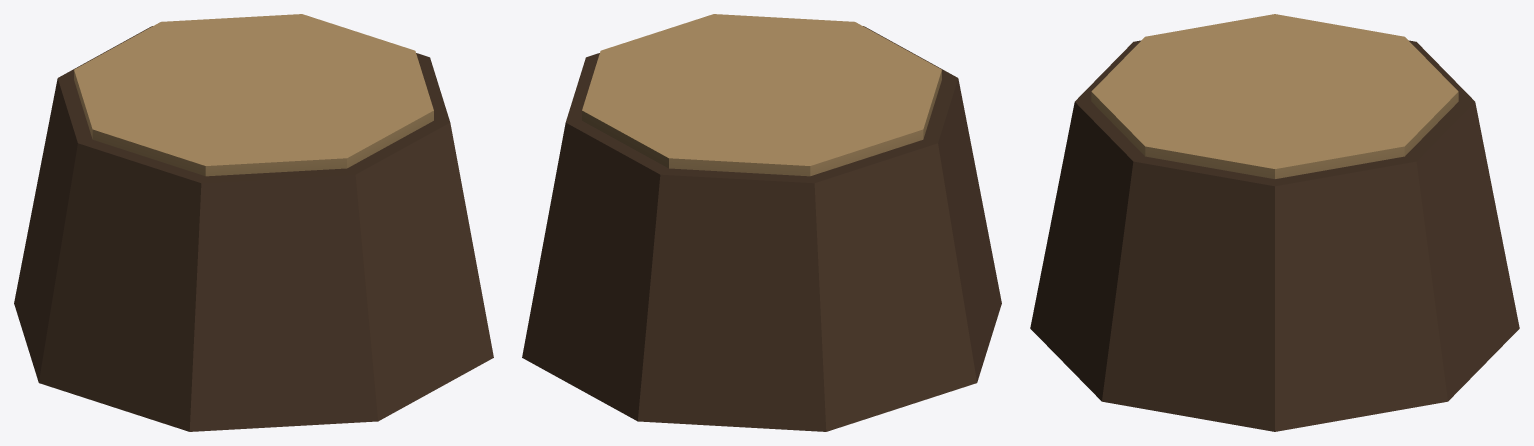
File: Stump.fbx
3 views of the same model, side by side, from view 1: azimuth 30°, elevation 25°; view 2: azimuth 150°, elevation 25°; view 3: azimuth 270°, elevation 25° (orthographic).
Visible parts, largest first — view 1: Stump; view 2: Stump; view 3: Stump.
Boxes of the visible parts, left/top/right/bottom form: Stump: left=14, top=14, right=493, bottom=431; Stump: left=522, top=14, right=1001, bottom=431; Stump: left=1030, top=14, right=1519, bottom=431.
Size of the model in its own units: 0.88 by 0.47 by 0.88.
